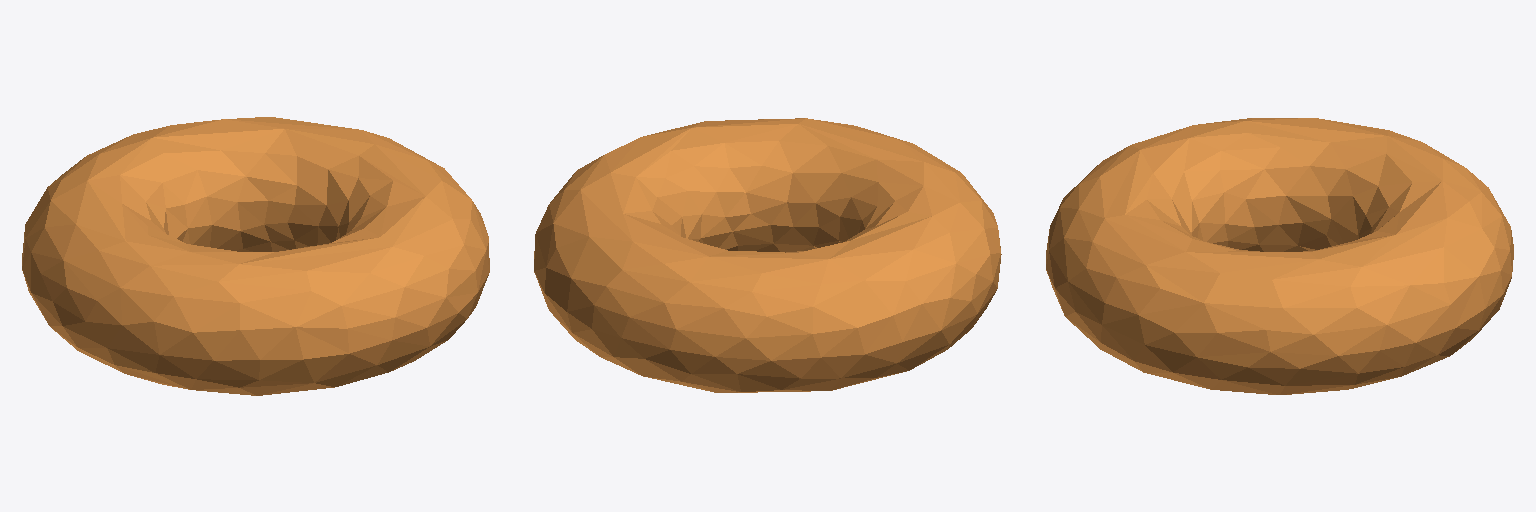
File: donut.obj
The picture shows the model from 3 angles: view 1: azimuth 30°, elevation 25°; view 2: azimuth 150°, elevation 25°; view 3: azimuth 270°, elevation 25°; orthographic projection.
Parts seen in each view (by area): view 1: mesh01.002; view 2: mesh01.002; view 3: mesh01.002.
Boxes of the visible parts, x1=… form: mesh01.002: x1=22, y1=117, x2=489, y2=395; mesh01.002: x1=534, y1=118, x2=1001, y2=392; mesh01.002: x1=1046, y1=118, x2=1513, y2=394.
Size of the model in its own units: 15.03 by 4.54 by 15.